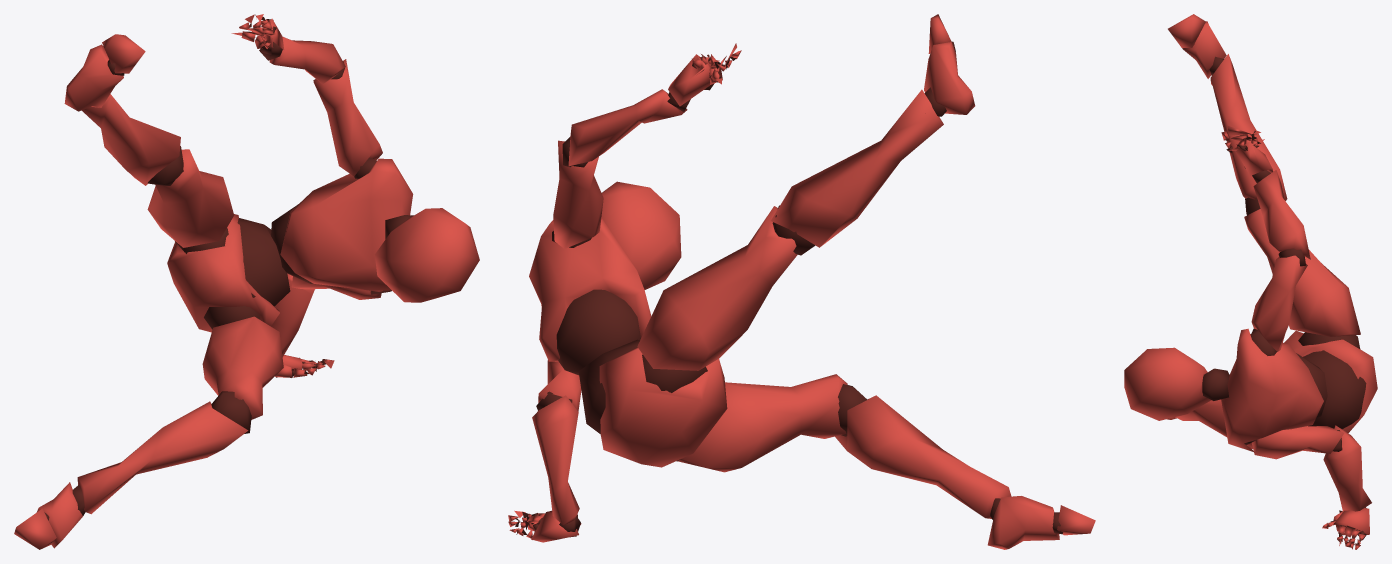
The picture shows the model from 3 angles, left to right: view 1: azimuth 30°, elevation 25°; view 2: azimuth 150°, elevation 25°; view 3: azimuth 270°, elevation 25°; orthographic projection. The views are drawn at different scales.
Parts seen in each view (by area): view 1: Beta_Surface; view 2: Beta_Surface; view 3: Beta_Surface.
Boxes of the visible parts, x1,y1,x2,y2 form: Beta_Surface: [14, 14, 479, 549]; Beta_Surface: [508, 14, 1095, 549]; Beta_Surface: [1124, 14, 1377, 549].
Size of the model in its own units: 13.36 by 13.32 by 7.38.
